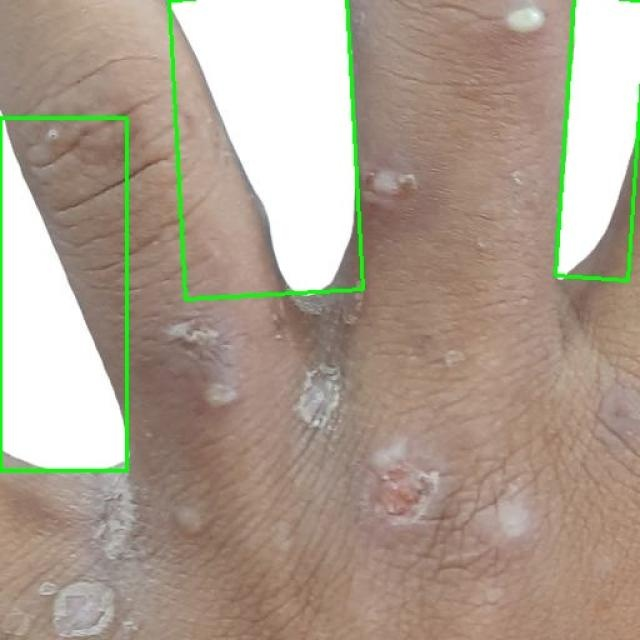Scabies: (170, 0, 363, 299), (0, 118, 126, 470), (556, 0, 640, 281)
